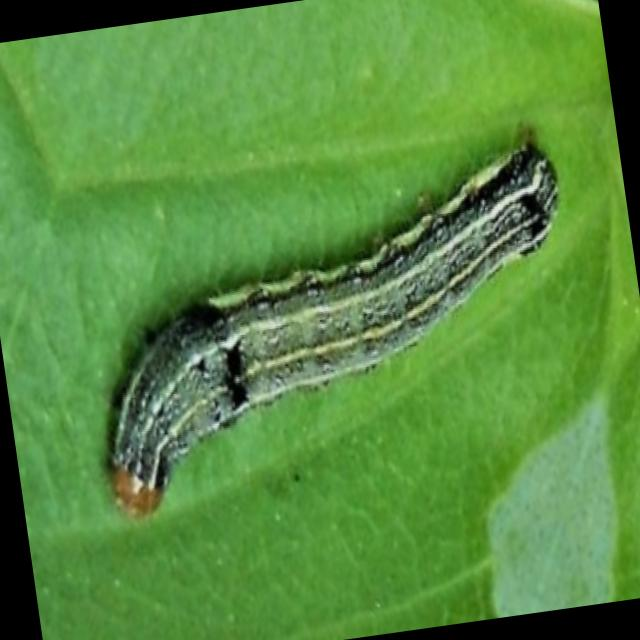Armyworm: (6, 122, 639, 553)
